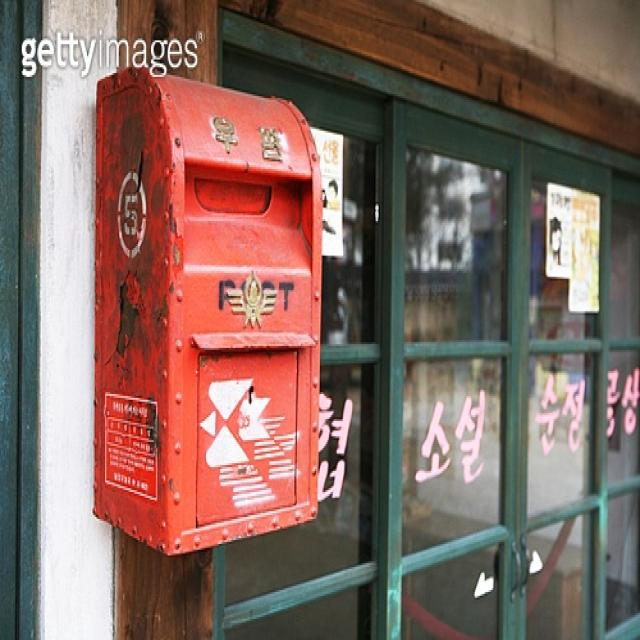Post Box: (94, 63, 319, 566)
